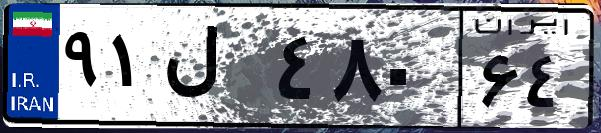0: (385, 28, 445, 110)
1: (110, 28, 158, 98)
4: (270, 28, 330, 110), (525, 38, 570, 115)
6: (475, 38, 525, 113)
8: (330, 28, 385, 110)
9: (57, 26, 110, 100)
ل: (158, 20, 270, 120)
